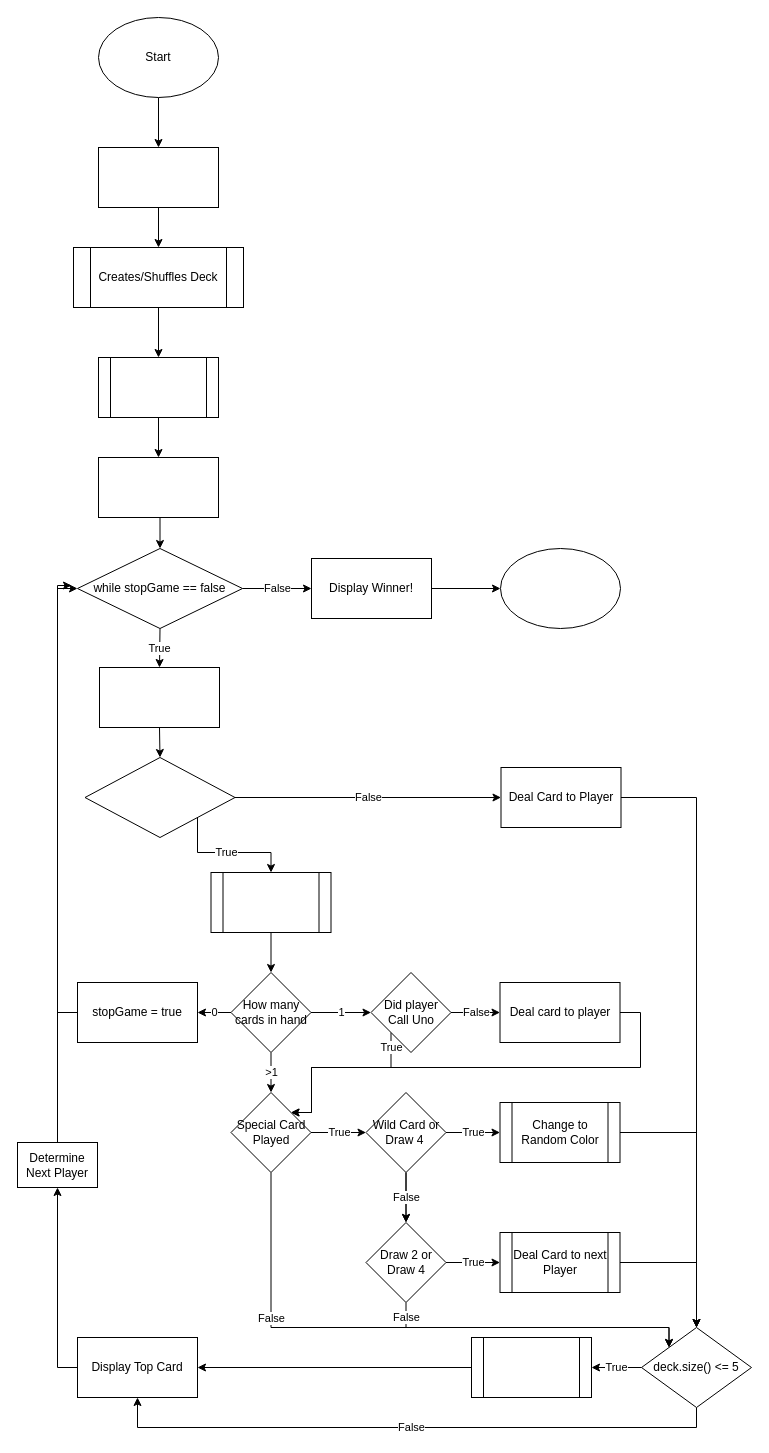
The diagram is 769 pixels wide and 1453 high, and some of its shapes have lost their labels. Here are the shapes that lost their labels. From the top down, the centre of each, then its label:
(158,177): Declare Deck, Players Hand, and Discard Deck
(158,387): Deal cards to players hands
(158,487): Place top card on discard pile
(560,588): End
(159,697): Displayer Current Players hand
(159,797): Current player has a playable card
(270,902): Play the playable card
(531,1367): Restock Deck
